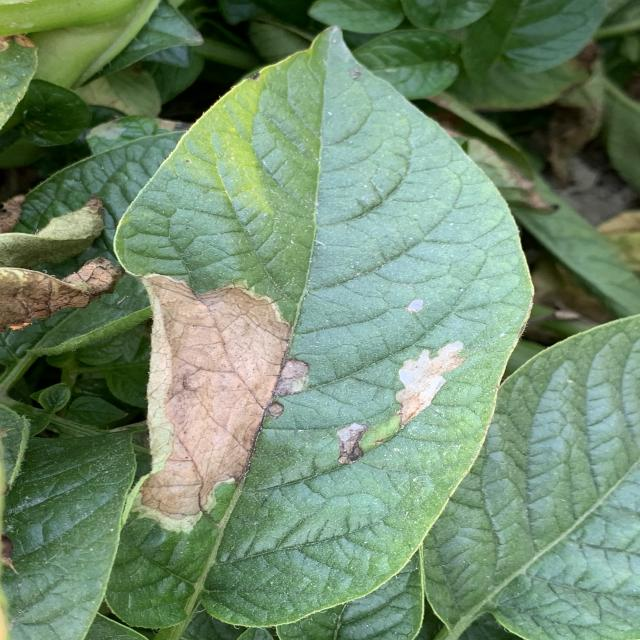lateblight: (135, 274, 290, 531), (395, 341, 465, 428), (337, 415, 400, 464), (273, 359, 310, 396)
